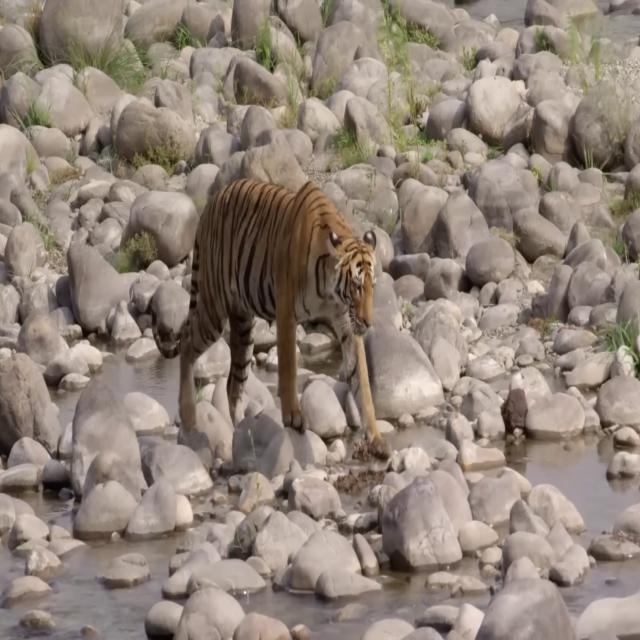tiger: (151, 177, 391, 459)
